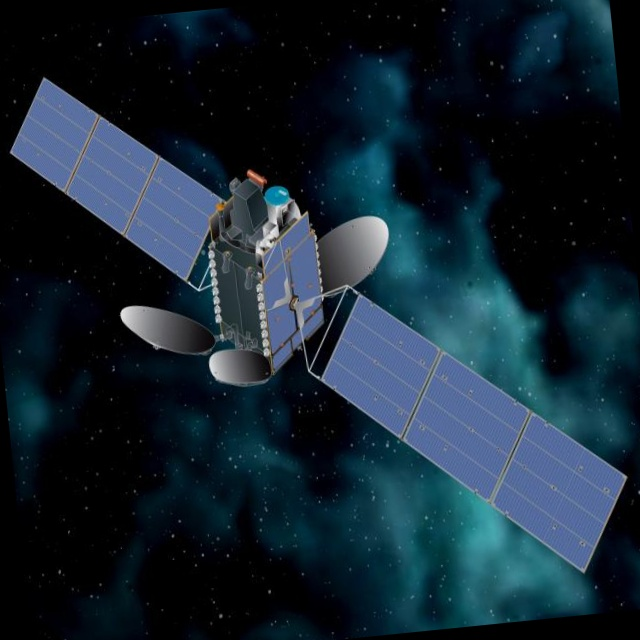medium_debris: (0, 16, 638, 634)
